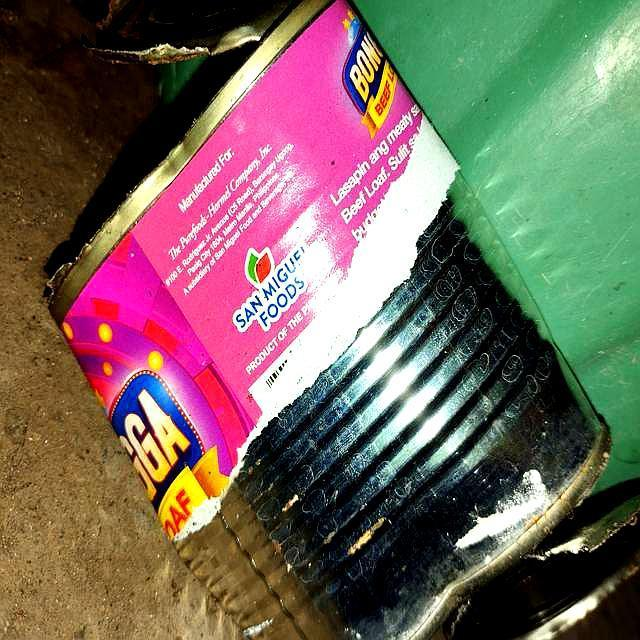Non-biodegradable: (39, 1, 623, 640)
